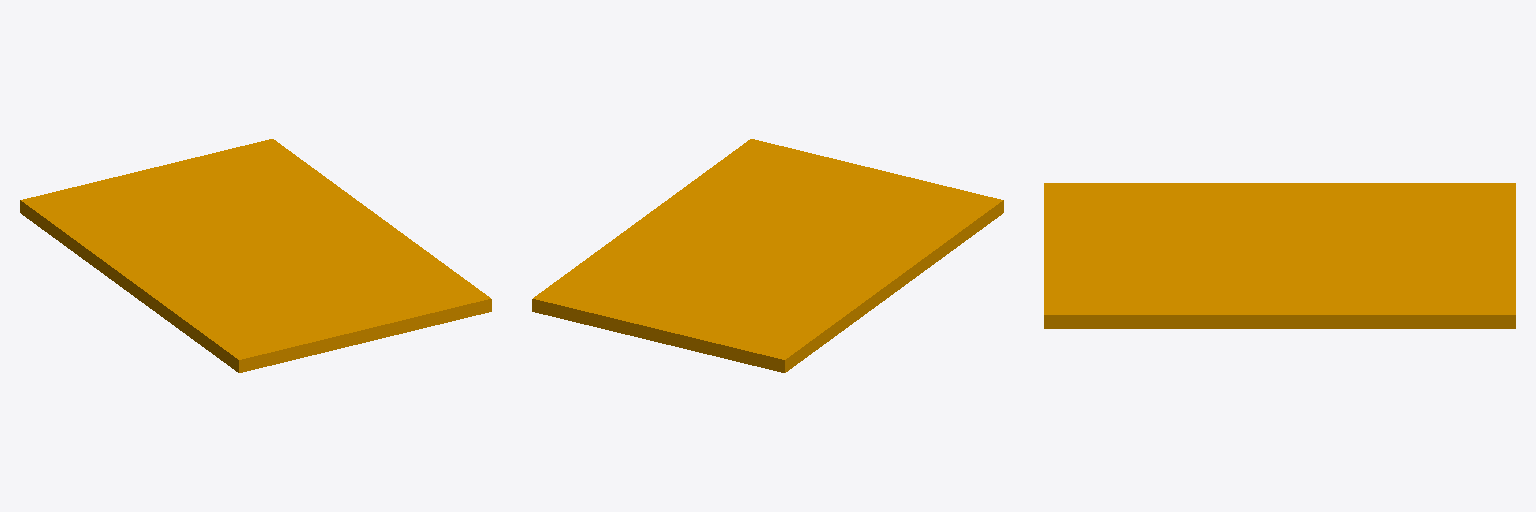
The robot description file, URDF, robot "box":
<?xml version="1.0"?>
<robot name="box">
    <link name="box_base">
        <visual>
            <geometry>
                <box size = "2.0 3.0 0.1"/>
            </geometry>
            <material name="white"/>
        </visual>
        <collision name="collision_test">
            <geometry>
                <box size = "2.5 3.0 0.1"/>
            </geometry>
        </collision>
        <inertial>
            <mass value="100"/>
            <inertia ixx="1.0" ixy="0.0" ixz="0.0" iyy="1.0" iyz="0.0" izz="1.0"/>
        </inertial>
    </link>
    <gazebo reference="box_base">
        <mu1>0.0001</mu1>
        <mu2>0.0001</mu2>
        <material>Gazebo/Black</material>
    </gazebo>
</robot>

--- Render facts (derived) ---
The picture shows the robot from 3 angles, left to right: view 1: azimuth 30°, elevation 25°; view 2: azimuth 150°, elevation 25°; view 3: azimuth 270°, elevation 25°; orthographic projection.
Robot: box — 1 links, 0 joints (none); root link box_base; default pose: all joints at 0.
Links seen in each view (by area): view 1: box_base; view 2: box_base; view 3: box_base.
Boxes of the visible links, left/top/right/bottom form: box_base: left=20, top=139, right=491, bottom=372; box_base: left=532, top=139, right=1003, bottom=372; box_base: left=1044, top=183, right=1515, bottom=328.
Size in the robot's own frame: 2 by 3 by 0.1 metres.
Geometry: primitives only (box / cylinder / sphere), no mesh files.